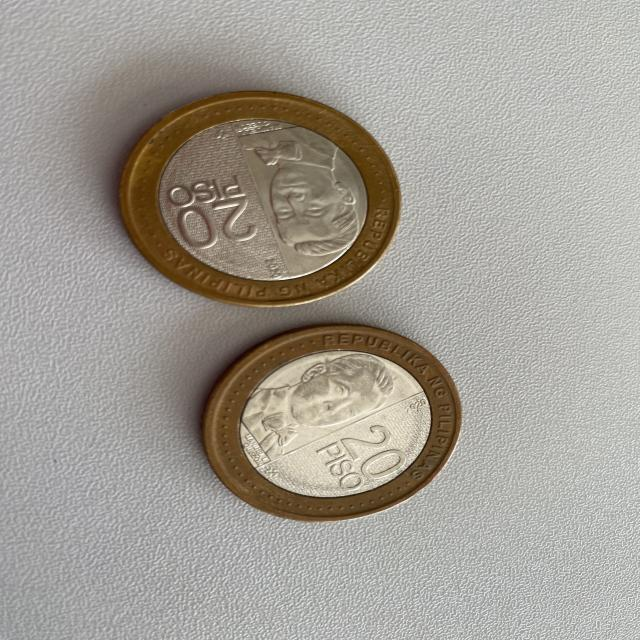20_New_Front: (177, 200, 266, 248), (339, 424, 405, 478)
